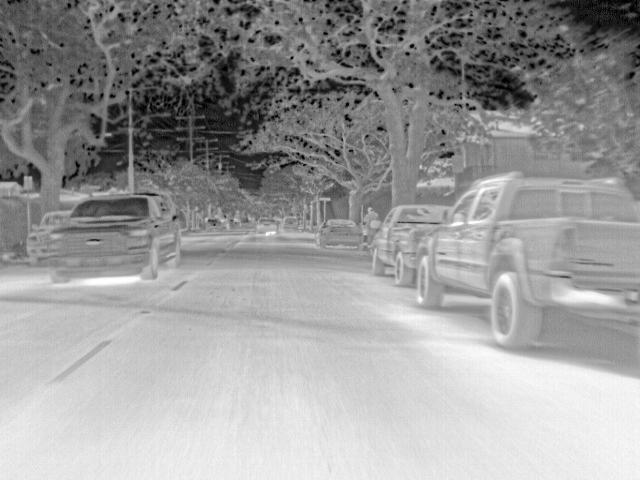car: (416, 168, 639, 350), (48, 191, 183, 284), (370, 206, 454, 287), (26, 210, 77, 266), (315, 220, 364, 250), (255, 218, 277, 236), (282, 214, 299, 230), (204, 218, 221, 232)
person: (362, 205, 375, 240)
